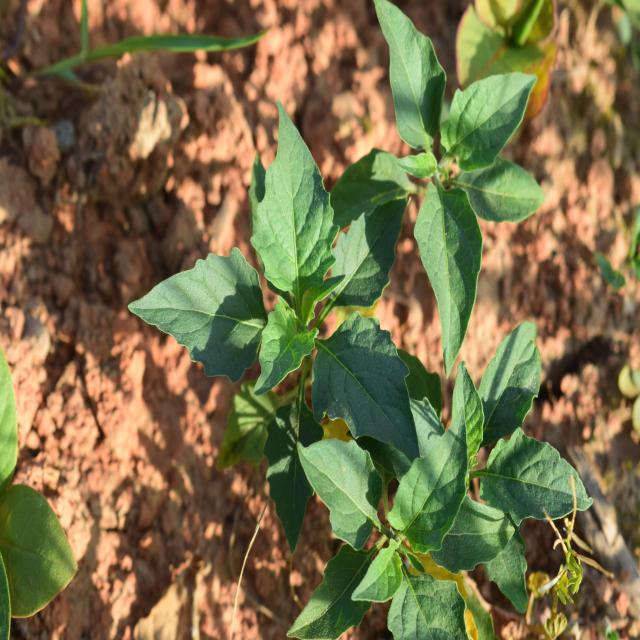Black_nightshade: (132, 124, 428, 470), (336, 338, 562, 640), (360, 22, 539, 354)
